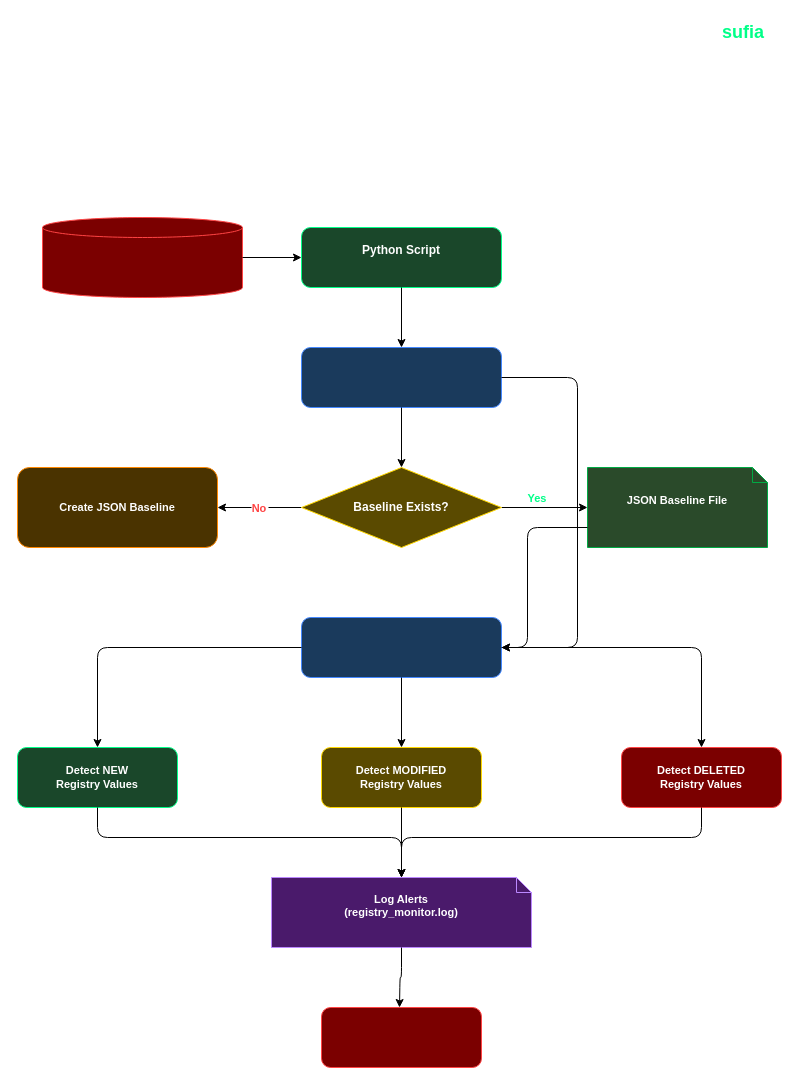
This 799x1085 diagram has some shape labels left out. Each missing label, with the centre of its shape:
"Administrator / SOC Analyst Review Logs" belongs at (x=401, y=1037).
"check_changes Compare Current vs Baseline" belongs at (x=401, y=647).
"Read Registry Values" belongs at (x=401, y=377).
"Windows Registry (HKEY_LOCAL_MACHINE\...\Run)" belongs at (x=142, y=257).
